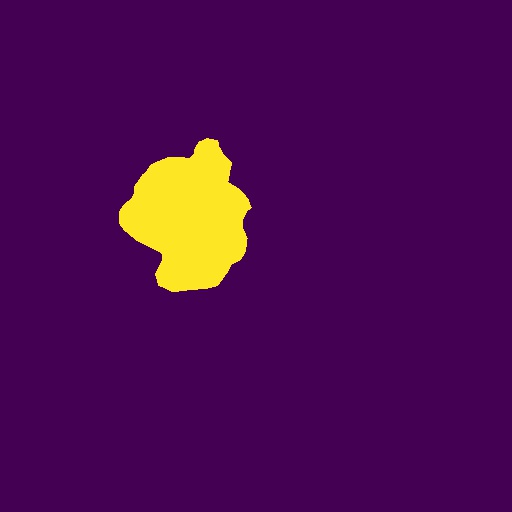Gliomia_tumour: (119, 138, 252, 292)
